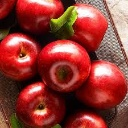apple: (16, 1, 64, 35)
